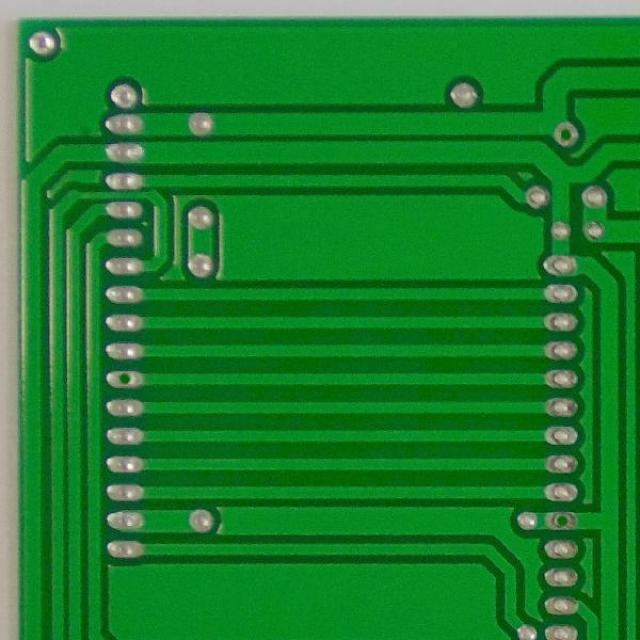Missing_Hole: (103, 368, 146, 389), (551, 121, 580, 148), (544, 511, 578, 532)
